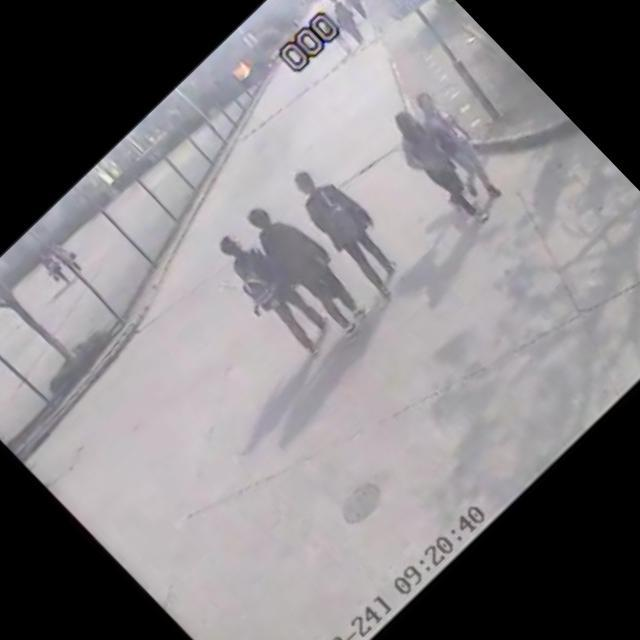person: (230, 186, 384, 344), (276, 152, 428, 306), (202, 222, 342, 365), (375, 100, 509, 236), (402, 84, 523, 208)
